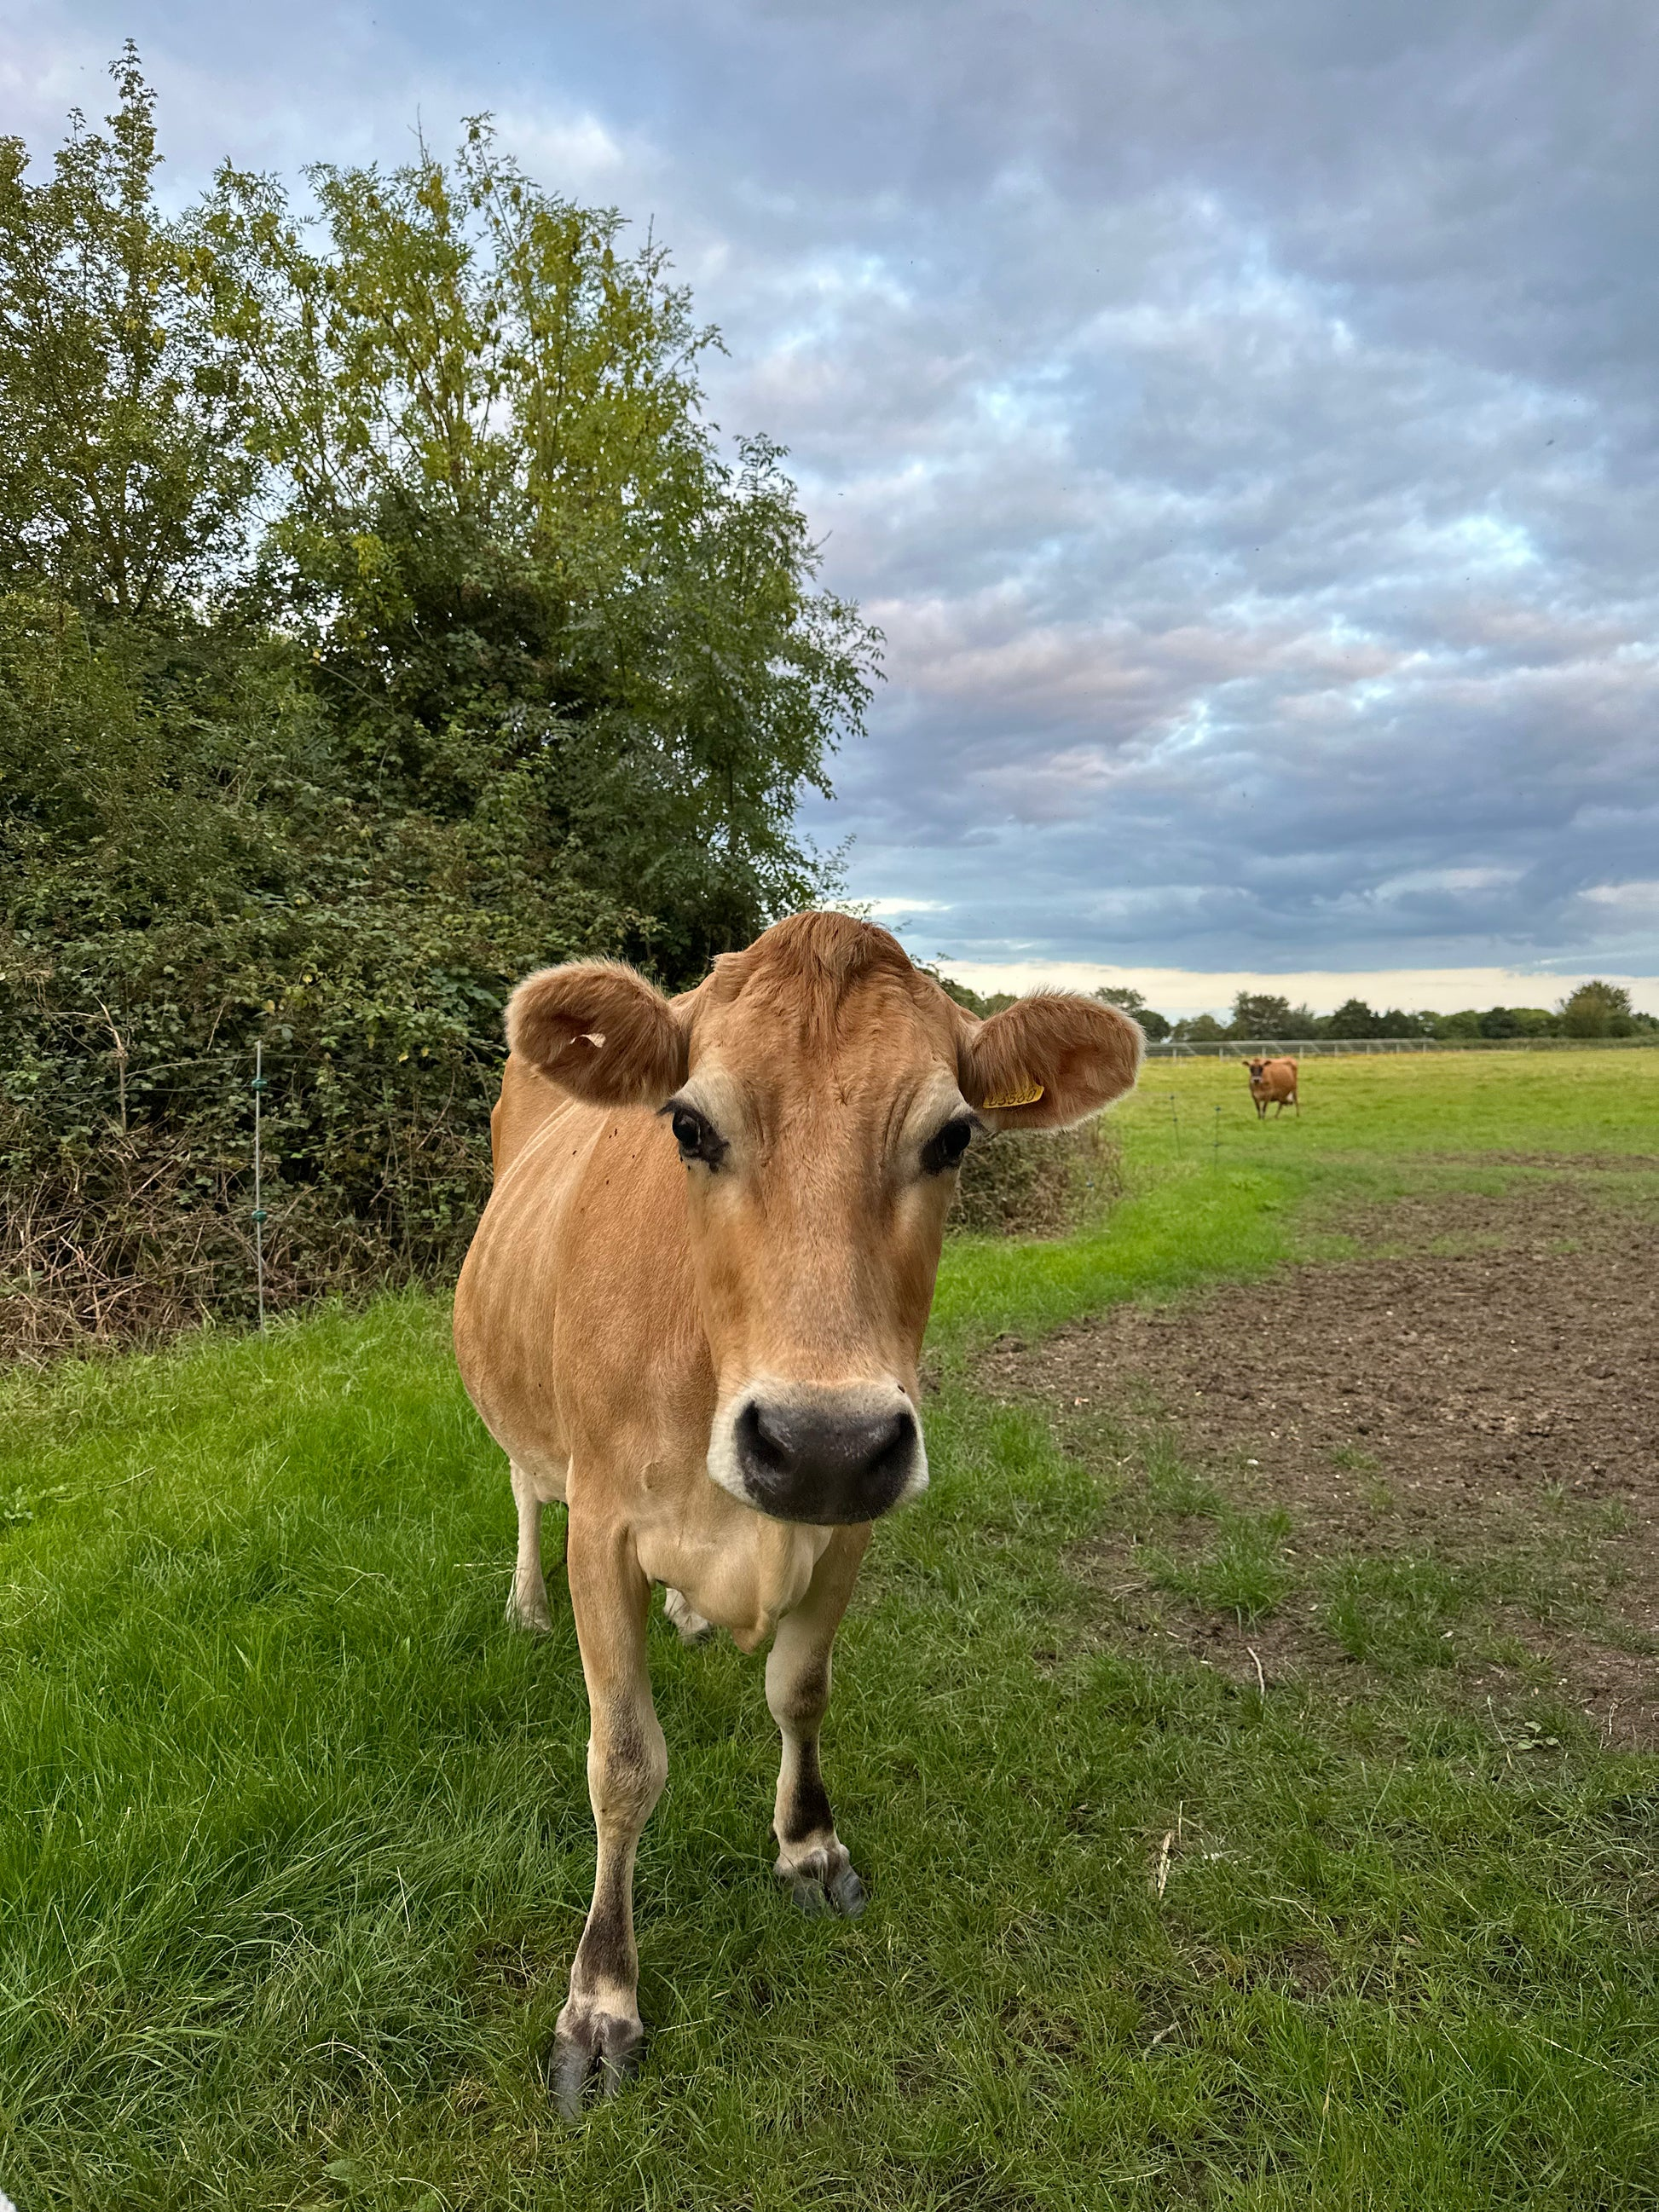cow: (427, 883, 1188, 2062)
